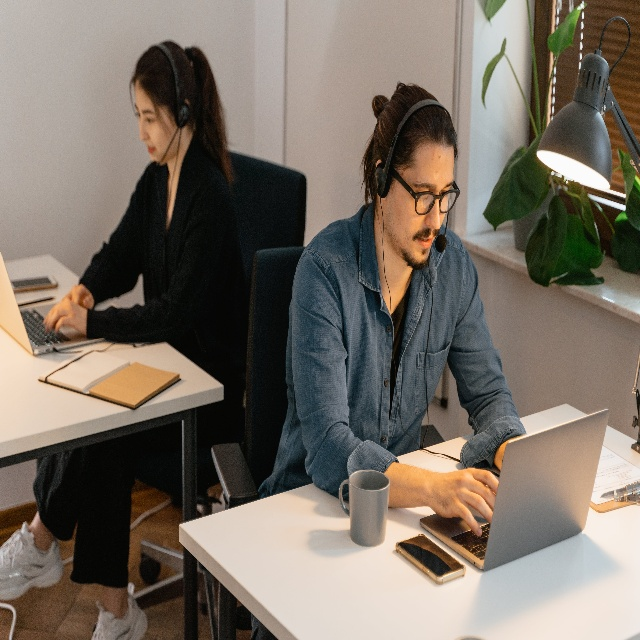Gafas: (388, 164, 460, 214)
Sin_guantes: (432, 467, 501, 539), (43, 298, 88, 337), (61, 283, 94, 310)
